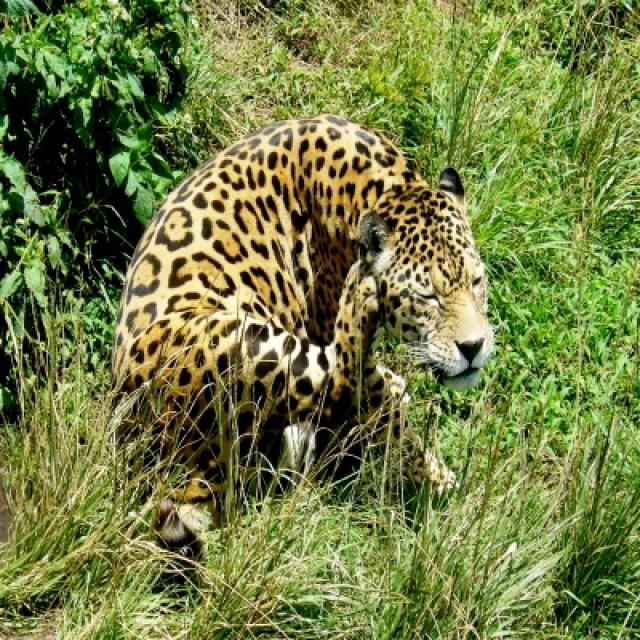Jaguar: (110, 115, 496, 526)
